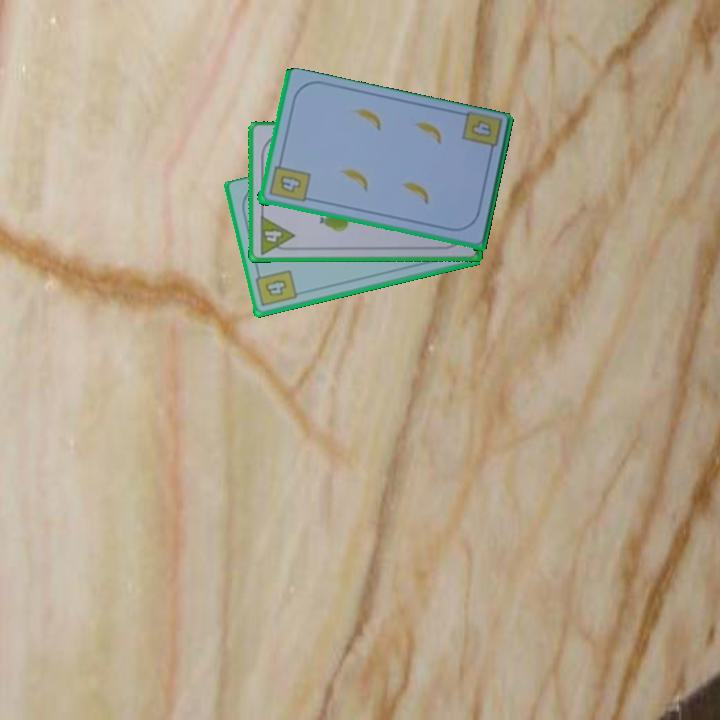4b: (265, 157, 312, 206), (458, 110, 504, 160), (252, 267, 300, 309)
4p: (256, 213, 297, 257)
